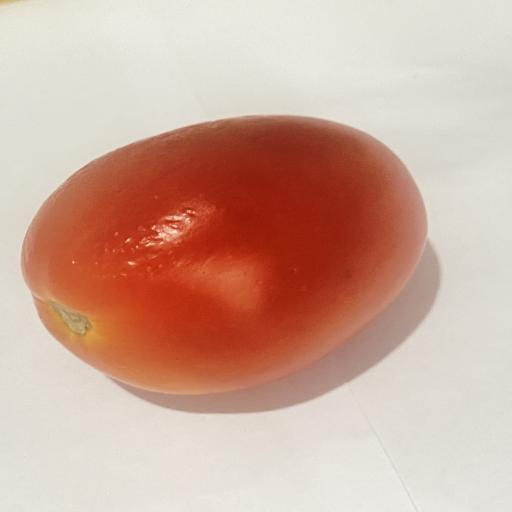spoiled: (22, 116, 426, 394)
